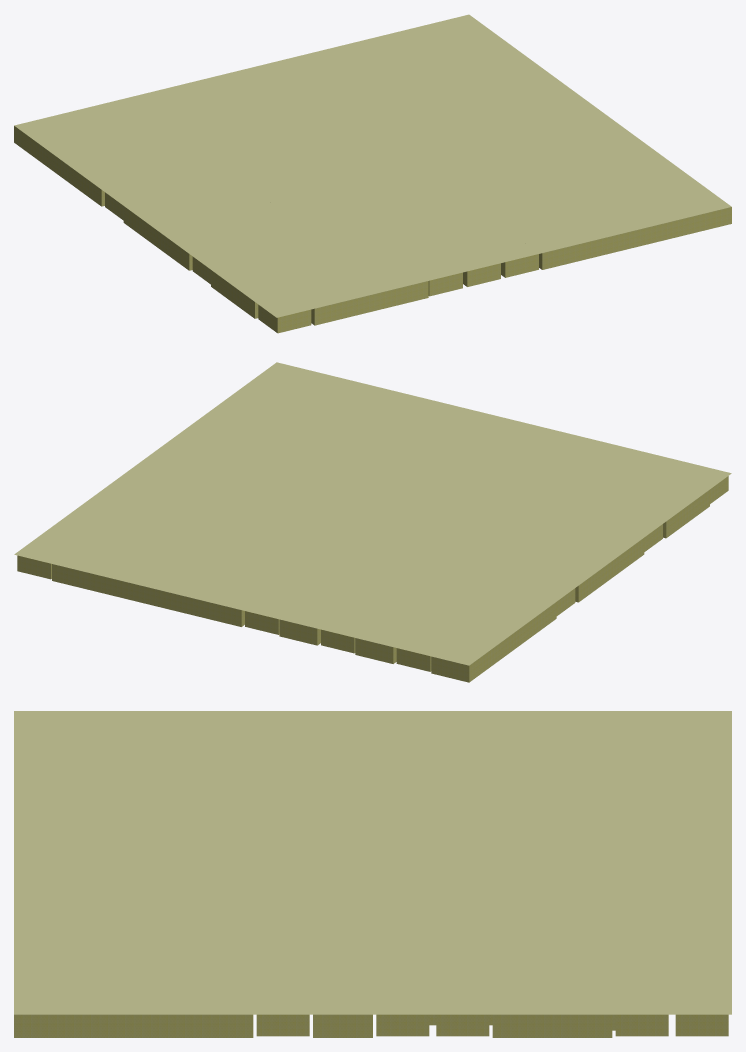
File: Backrooms.fbx
The picture shows the model from 3 angles, top to bottom: view 1: azimuth 30°, elevation 25°; view 2: azimuth 150°, elevation 25°; view 3: azimuth 270°, elevation 25°; orthographic projection. The views are drawn at different scales.
Visible parts, largest first — view 1: Group60, Group62, Group59, Group3, Group29, Group25, Group2; view 2: Group60, Group62, Group59, Group10, Group58, Group28, Group56; view 3: Group60, Group62, Group57, Group54, Group43, Group55, Group56.
Boxes of the visible parts, x1,y1,x2,y2 form: Group60: [14, 14, 731, 317]; Group62: [123, 206, 731, 325]; Group59: [14, 126, 101, 206]; Group3: [255, 302, 314, 333]; Group29: [501, 253, 542, 277]; Group25: [463, 263, 500, 286]; Group2: [428, 272, 462, 296]; Group60: [14, 362, 731, 665]; Group62: [52, 489, 709, 663]; Group59: [431, 602, 556, 682]; Group10: [393, 647, 431, 671]; Group58: [317, 628, 355, 653]; Group28: [241, 610, 279, 634]; Group56: [17, 555, 51, 579]; Group60: [14, 711, 731, 1014]; Group62: [14, 1014, 612, 1037]; Group57: [612, 1014, 668, 1036]; Group54: [436, 1014, 492, 1036]; Group43: [256, 1014, 309, 1036]; Group55: [376, 1014, 429, 1036]; Group56: [675, 1014, 728, 1036].
Size of the model in its own units: 84 by 3 by 84.
